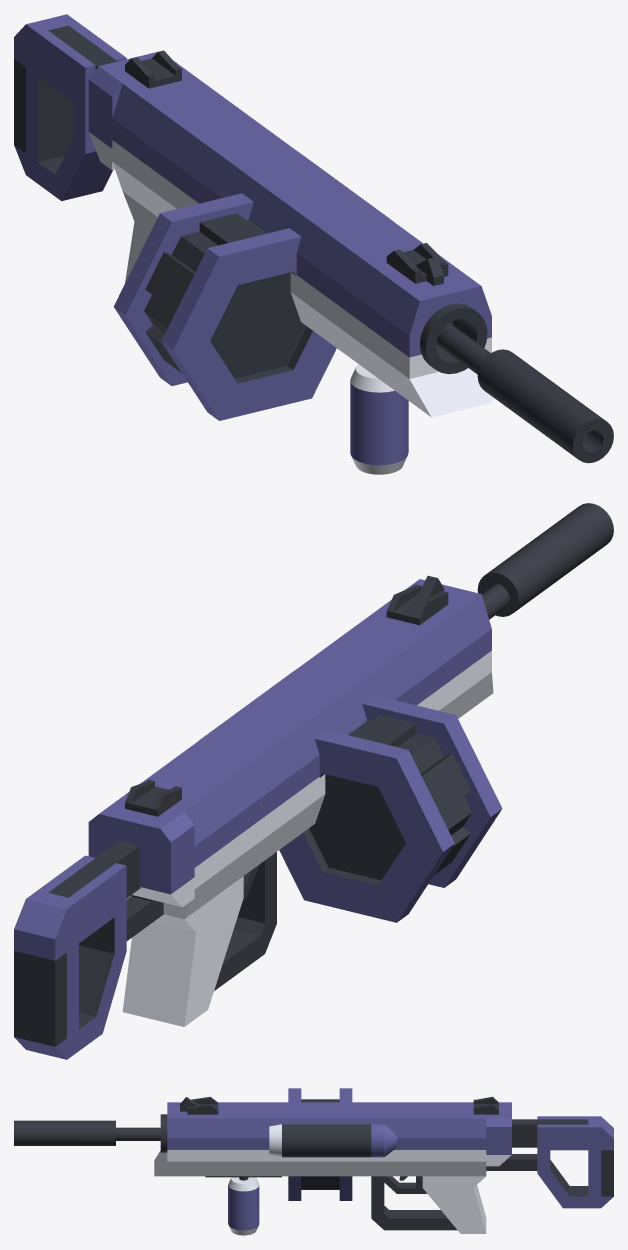
Rendered from rifle2.fbx.
3 renders of one model, top to bottom at view 1: azimuth 30°, elevation 25°; view 2: azimuth 150°, elevation 25°; view 3: azimuth 270°, elevation 25°, orthographic. The views are drawn at different scales.
Visible parts, largest first — view 1: mergedBlocks; view 2: mergedBlocks; view 3: mergedBlocks.
Boxes of the visible parts, x1,y1,x2,y2 form: mergedBlocks: (14, 14, 613, 474); mergedBlocks: (14, 503, 613, 1059); mergedBlocks: (14, 1088, 613, 1235).
Size of the model in its own units: 10.8 by 11.42 by 47.
